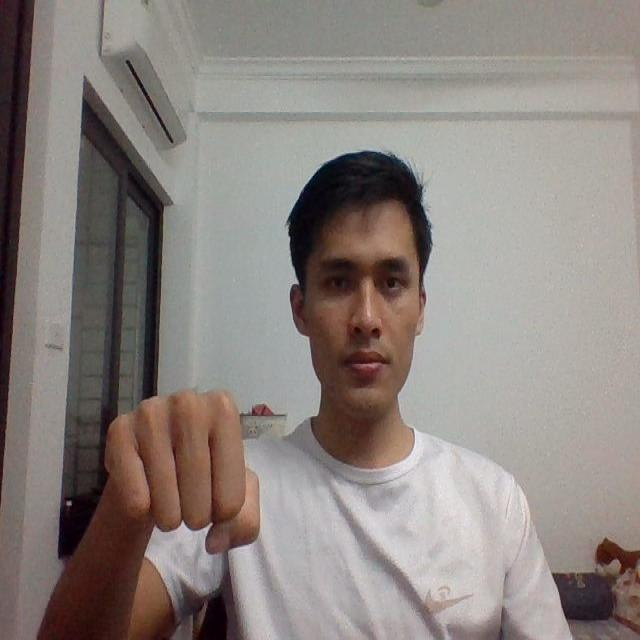yes: (104, 378, 270, 559)
